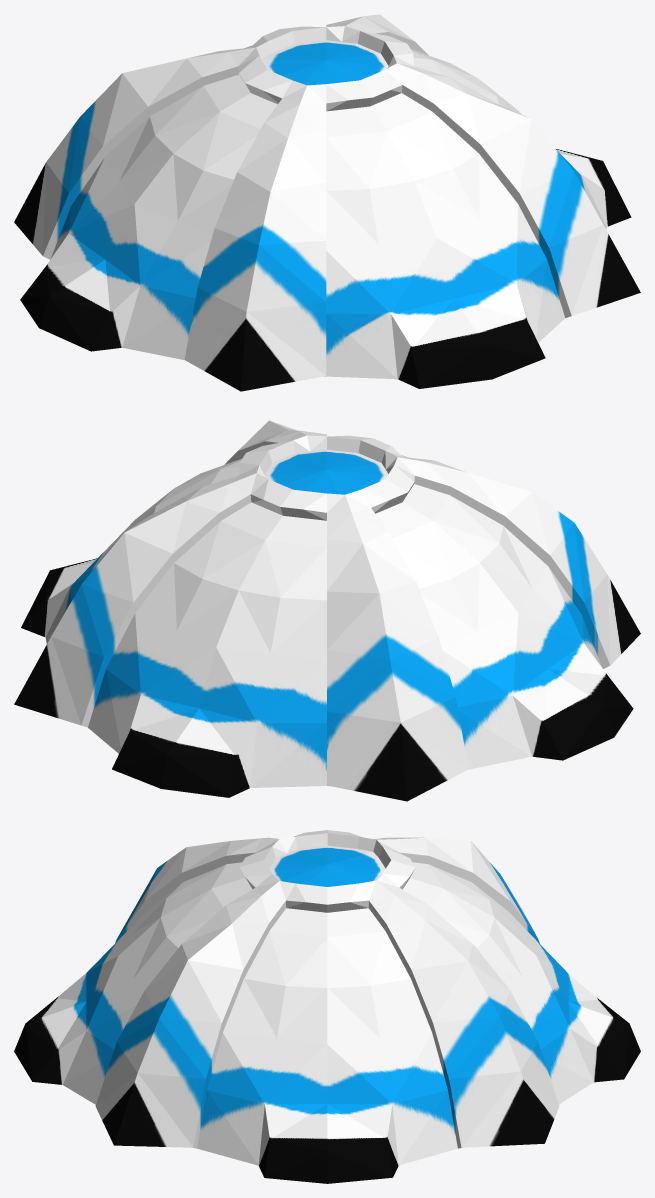
File: HomeBase.fbx
The picture shows the model from 3 angles, top to bottom: view 1: azimuth 30°, elevation 25°; view 2: azimuth 150°, elevation 25°; view 3: azimuth 270°, elevation 25°; orthographic projection. The views are drawn at different scales.
Parts seen in each view (by area): view 1: pSphere2; view 2: pSphere2; view 3: pSphere2.
Boxes of the visible parts, x1,y1,x2,y2 form: pSphere2: (14,14,640,391); pSphere2: (14,420,640,801); pSphere2: (14,830,640,1183).
Bounding box in the file's own units: 13.96 × 4.74 × 13.96.
